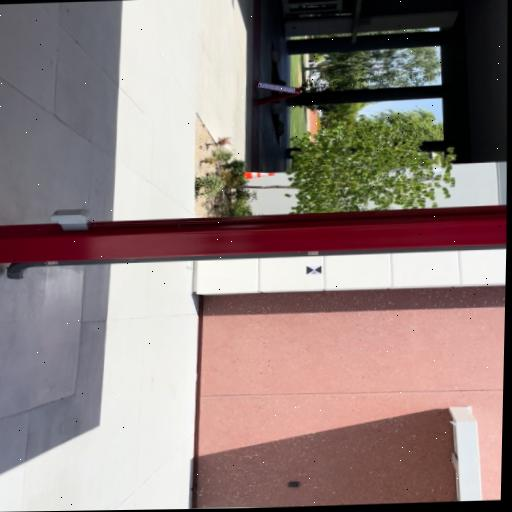target6: (306, 266, 322, 275)
